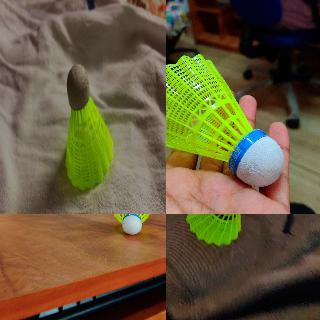shuttlecock: (166, 52, 284, 186), (64, 63, 112, 190), (184, 214, 244, 246), (112, 214, 153, 236)
